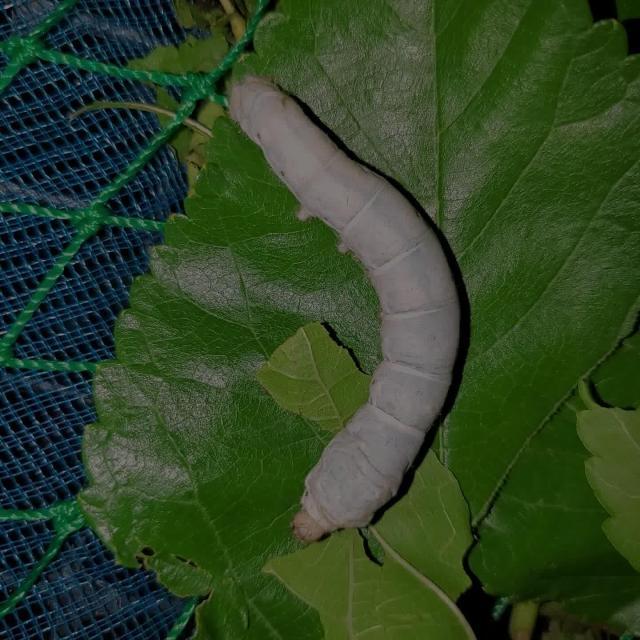Healthy: (173, 49, 562, 573)
